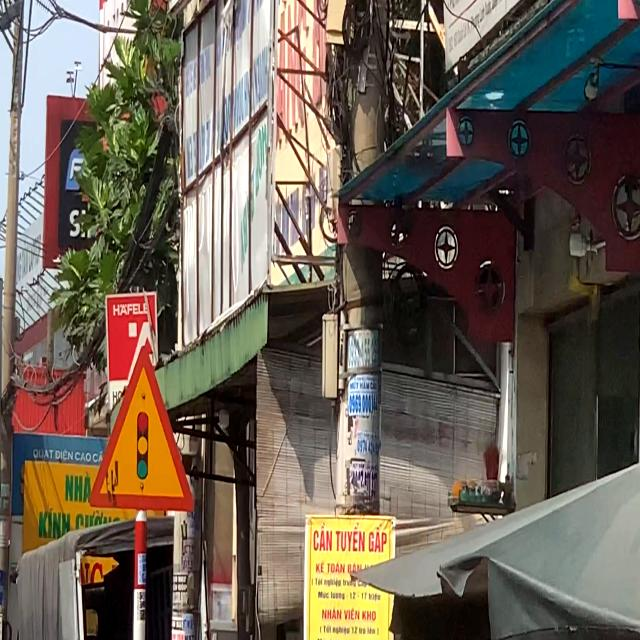W.209: (79, 330, 198, 522)
